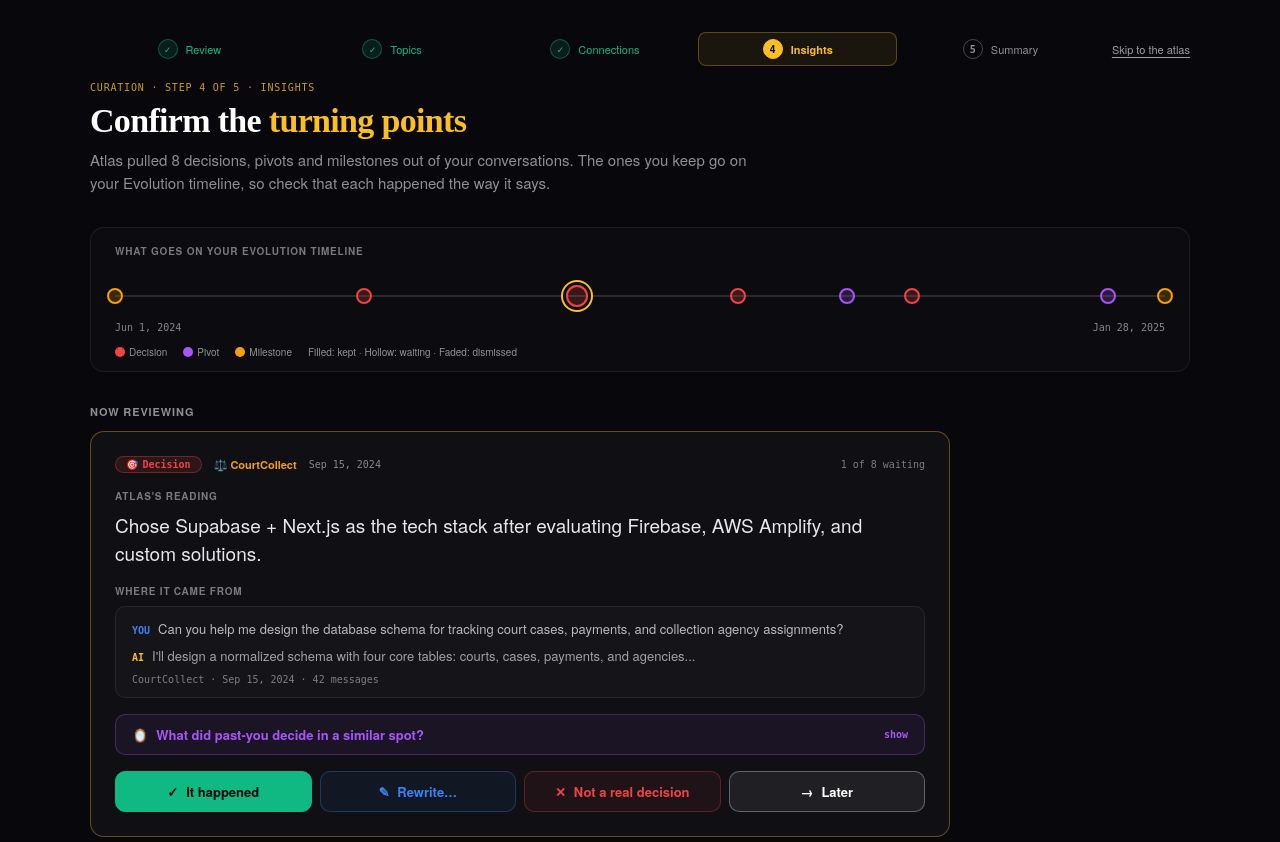
<InsightDecisionReview> › rewrite shows your words and what Atlas had
Click the button "✎ Rewrite…" at (418, 791), box [320, 771, 516, 812]
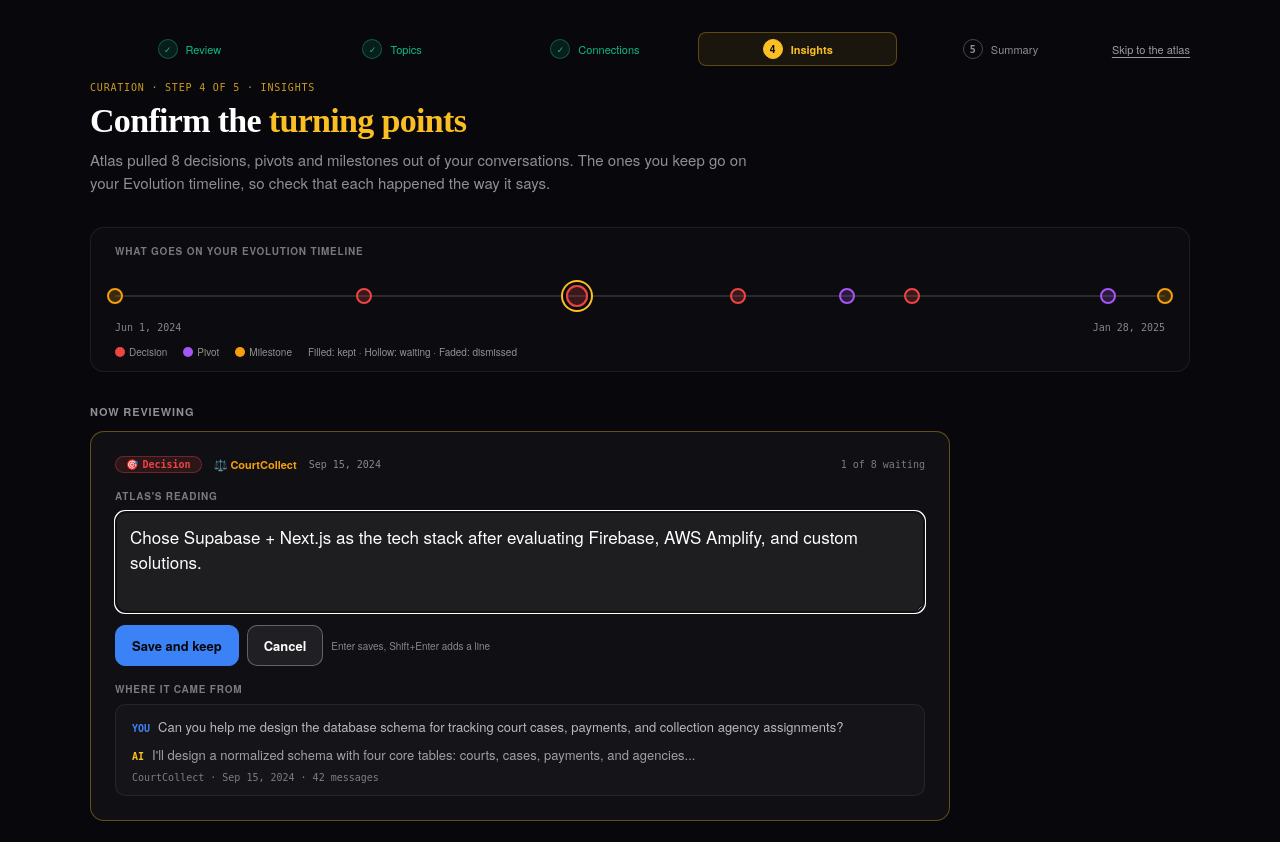
Replace the text in the text box named "Rewrite this insight" with "Picked Supabase for speed." at (520, 562), box [115, 511, 925, 613]
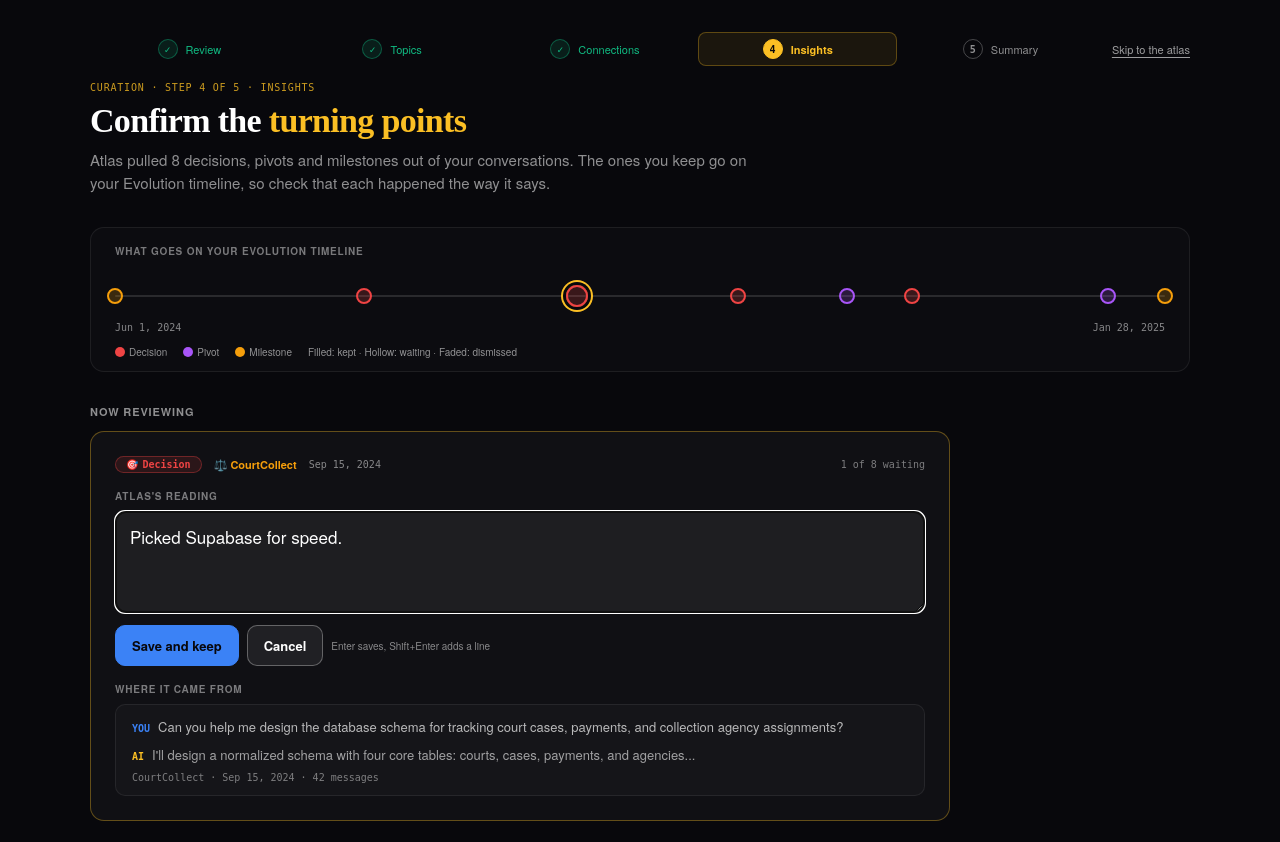
Click the button "Save and keep" at (177, 646), box [115, 625, 239, 666]
(page scrolled)
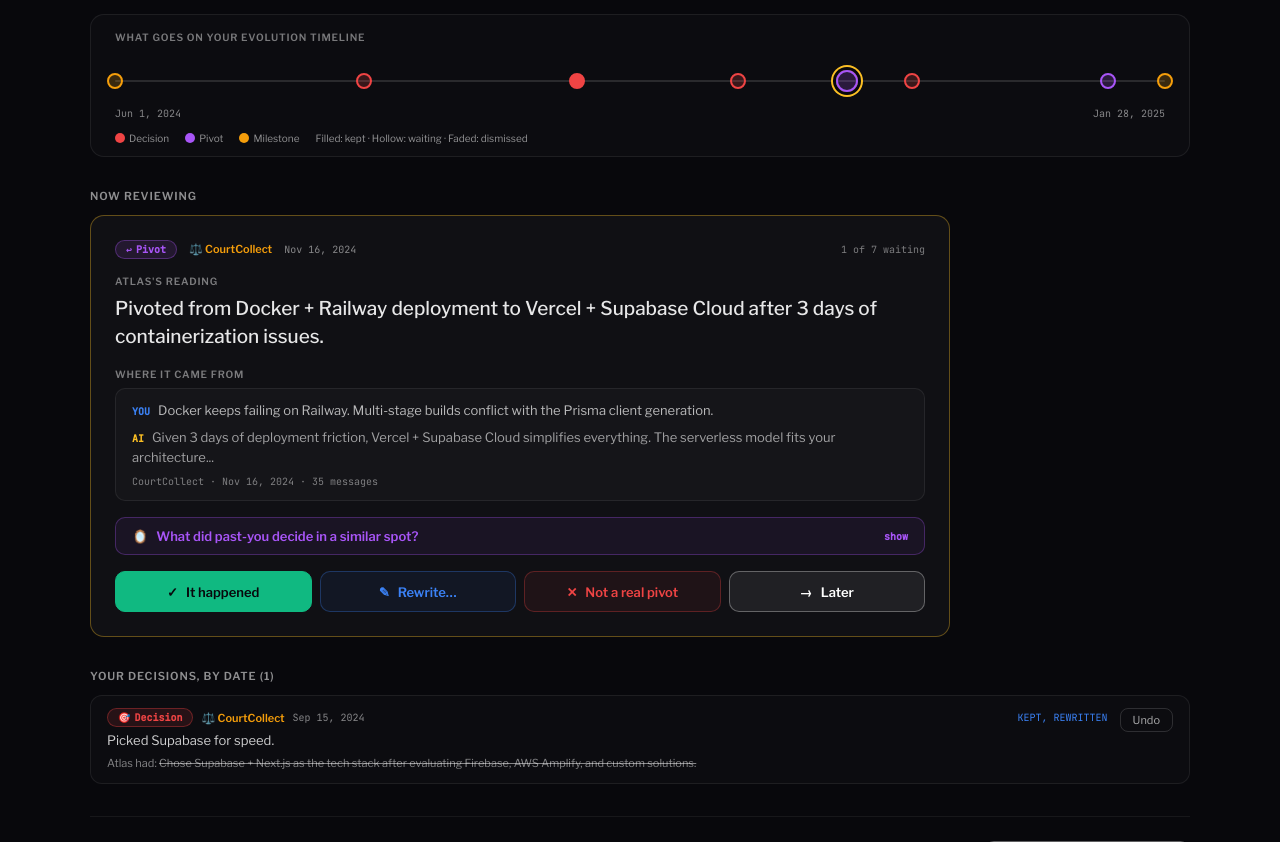
expect the text "Picked Supabase for speed." is shown: met, box [107, 732, 274, 748]
expect the text "Chose Supabase + Next.js as the tech stack after evaluating Firebase, AWS Amplify, and custom solutions." is shown: met, box [159, 756, 696, 770]
